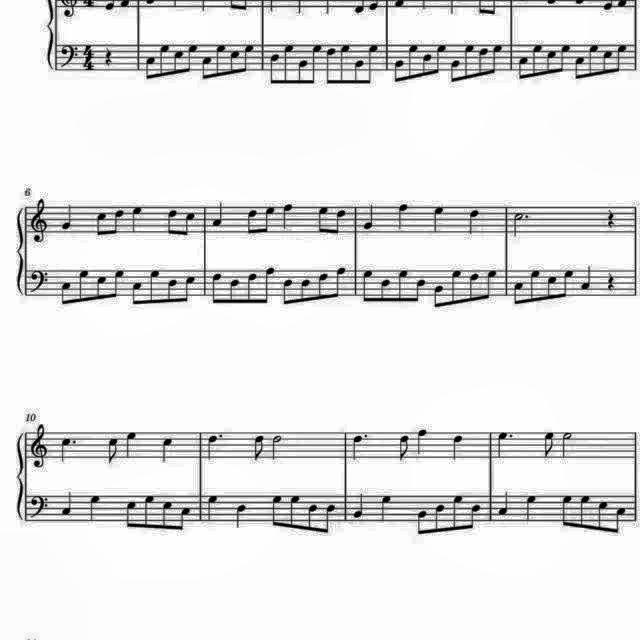Bass-clef: (28, 493, 52, 523), (28, 267, 52, 297), (59, 42, 81, 70)
Eighth-note: (262, 264, 278, 308), (281, 42, 297, 86), (364, 42, 380, 86), (614, 37, 632, 75), (406, 41, 422, 83), (75, 267, 92, 305), (450, 493, 466, 533), (146, 266, 162, 306), (286, 492, 302, 532), (158, 40, 174, 80), (578, 492, 594, 532), (324, 499, 341, 536), (323, 44, 337, 88), (244, 269, 260, 307), (394, 267, 410, 305), (528, 41, 544, 79), (448, 267, 464, 305), (339, 43, 353, 85), (334, 264, 350, 300), (526, 266, 542, 302), (103, 436, 121, 468), (433, 500, 449, 536), (488, 42, 504, 78), (358, 268, 374, 304), (268, 492, 284, 528), (558, 492, 574, 528), (542, 426, 558, 462), (142, 492, 156, 532), (394, 432, 412, 463), (182, 272, 198, 306), (315, 268, 331, 302), (594, 500, 610, 534), (124, 498, 140, 532), (249, 433, 267, 463), (213, 43, 227, 81), (56, 276, 72, 308), (110, 268, 126, 300), (280, 276, 296, 308), (240, 42, 256, 74), (160, 500, 176, 532), (542, 46, 558, 78), (164, 204, 180, 236), (93, 206, 109, 238), (316, 204, 332, 236), (560, 268, 576, 300), (414, 504, 430, 536), (110, 206, 126, 238), (484, 268, 500, 300), (614, 506, 630, 538), (466, 268, 480, 304), (210, 271, 224, 307), (433, 42, 447, 78), (587, 42, 601, 78), (262, 203, 278, 234), (180, 208, 196, 238), (228, 277, 244, 307), (334, 207, 350, 237), (542, 272, 558, 302), (466, 501, 482, 531), (244, 205, 260, 235), (142, 54, 158, 84), (178, 504, 194, 534), (390, 56, 406, 85), (466, 44, 478, 82), (306, 501, 320, 533), (184, 44, 198, 76), (130, 278, 146, 306), (378, 276, 394, 304), (268, 52, 282, 84), (558, 44, 572, 76), (600, 46, 614, 78), (512, 280, 528, 308), (478, 44, 490, 80), (166, 276, 180, 306), (414, 276, 428, 304), (201, 55, 215, 83), (95, 274, 109, 302), (299, 276, 313, 304), (431, 280, 445, 308), (295, 58, 309, 86), (352, 58, 366, 86), (571, 54, 585, 82), (517, 55, 531, 83), (230, 50, 242, 78), (420, 52, 432, 80), (450, 58, 462, 86), (172, 50, 184, 78)
Half-dot: (512, 211, 532, 241)
Half-note: (270, 433, 286, 463), (558, 431, 574, 461)
Quarter-dot: (207, 425, 229, 463), (496, 424, 516, 464), (57, 434, 81, 466), (350, 430, 372, 464)
Quarter-note: (158, 435, 178, 465), (466, 206, 486, 236), (428, 203, 448, 233), (448, 433, 468, 463), (59, 202, 77, 234), (359, 200, 377, 232), (279, 200, 297, 232), (522, 492, 540, 522), (393, 201, 411, 231), (123, 430, 141, 460), (128, 204, 146, 234), (204, 492, 222, 522), (233, 500, 251, 528), (351, 491, 367, 521), (378, 493, 394, 523), (88, 492, 104, 522), (415, 426, 431, 456), (210, 200, 227, 228), (495, 488, 511, 516), (580, 264, 596, 292), (60, 488, 76, 516)
Quarter-rest: (604, 205, 620, 231), (100, 45, 116, 69), (606, 270, 620, 294)
Treble-clef: (26, 197, 50, 246), (28, 422, 52, 470)
